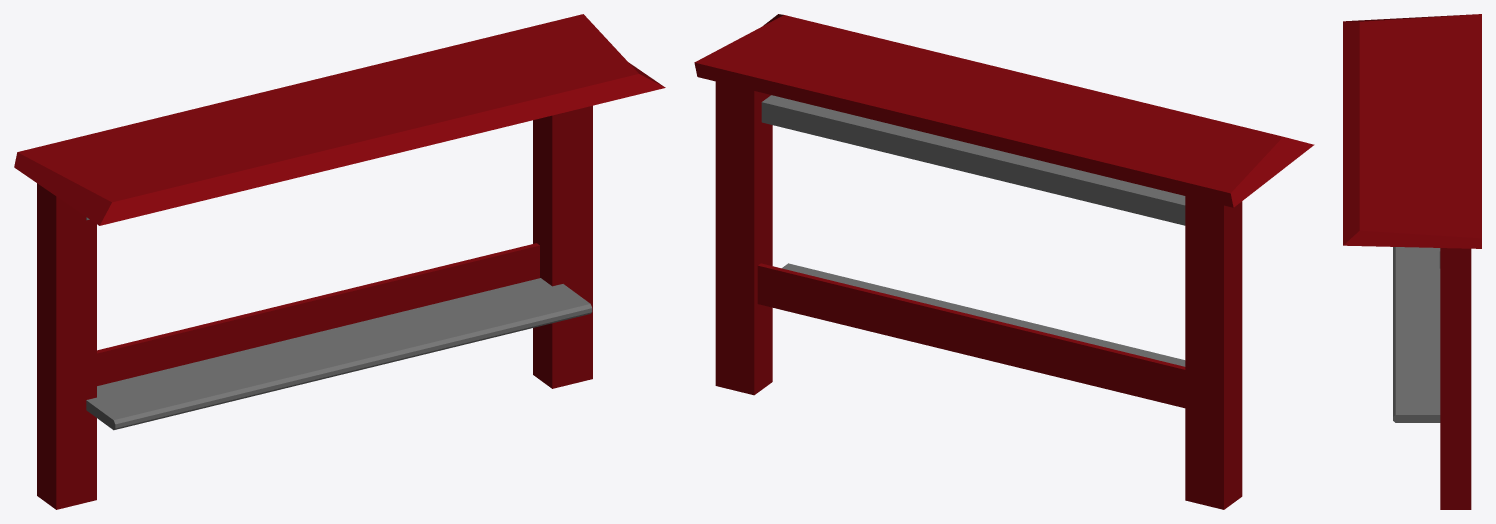
The model's file is Paradero.fbx.
3 views of the same model, side by side, from view 1: azimuth 30°, elevation 25°; view 2: azimuth 150°, elevation 25°; view 3: azimuth 270°, elevation 25° (orthographic). The views are drawn at different scales.
Visible parts, largest first — view 1: Cube; view 2: Cube; view 3: Cube.
Boxes of the visible parts, box(x1,y1,x2,y2) form: Cube: box(14, 14, 665, 509); Cube: box(694, 14, 1314, 509); Cube: box(1343, 14, 1481, 509).
Bounding box in the file's own units: 6.68 × 3.84 × 1.74.
